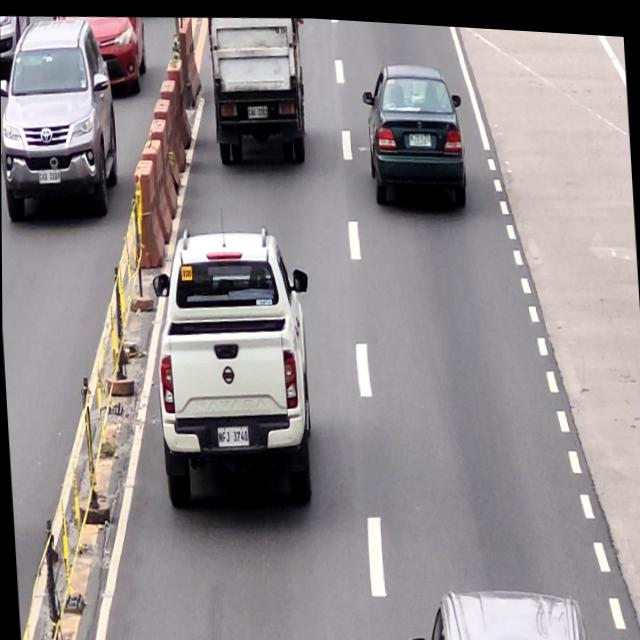Car: (149, 221, 322, 514), (362, 54, 469, 207), (397, 575, 621, 640)
License-Plate: (217, 422, 249, 445), (247, 101, 271, 119), (409, 127, 432, 145)
Truck: (208, 10, 310, 170)
